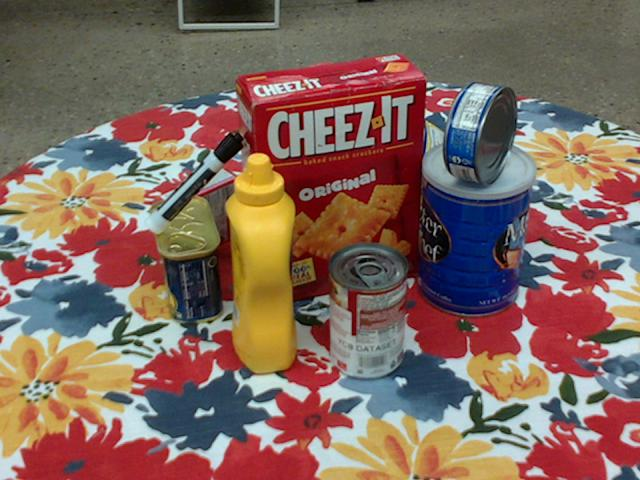cracker_box: (236, 54, 429, 305)
gelatin_box: (158, 168, 241, 264)
large_marker: (145, 131, 245, 233)
master_chef_can: (420, 139, 535, 319)
mug: (298, 122, 383, 220)
mustard_bottle: (226, 153, 295, 374)
potted_meat_can: (150, 196, 223, 324)
sugar_box: (355, 91, 509, 238)
tomato_soup_can: (327, 242, 408, 380)
tuna_fish_can: (446, 82, 518, 184)
